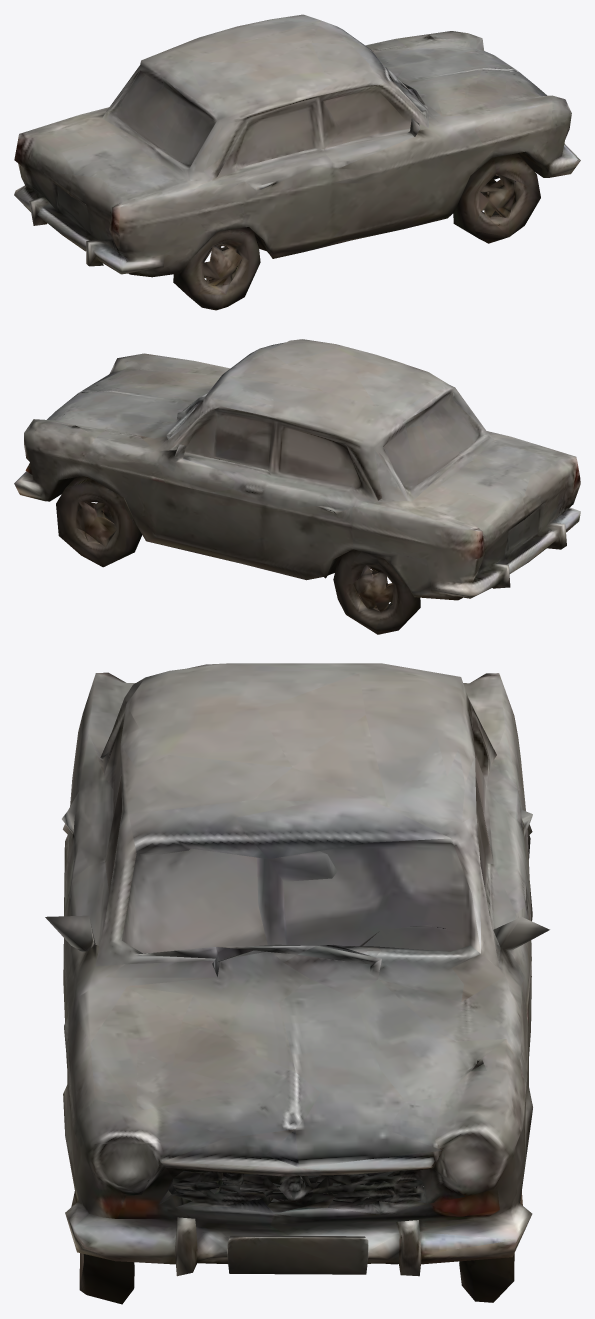
File: e_volga.glb
The picture shows the model from 3 angles, top to bottom: view 1: azimuth 30°, elevation 25°; view 2: azimuth 150°, elevation 25°; view 3: azimuth 270°, elevation 25°; orthographic projection. The views are drawn at different scales.
Visible parts, largest first — view 1: tripo_node_bfd651e4-126a-4ee7-9439-c075ebd8d233; view 2: tripo_node_bfd651e4-126a-4ee7-9439-c075ebd8d233; view 3: tripo_node_bfd651e4-126a-4ee7-9439-c075ebd8d233.
Boxes of the visible parts, bbox=[...] form: tripo_node_bfd651e4-126a-4ee7-9439-c075ebd8d233: bbox=[14, 14, 580, 310]; tripo_node_bfd651e4-126a-4ee7-9439-c075ebd8d233: bbox=[14, 339, 580, 634]; tripo_node_bfd651e4-126a-4ee7-9439-c075ebd8d233: bbox=[45, 663, 549, 1304].
Bounding box in the file's own units: 1 × 0.3887 × 0.4568.
1 material, 1 textured.
